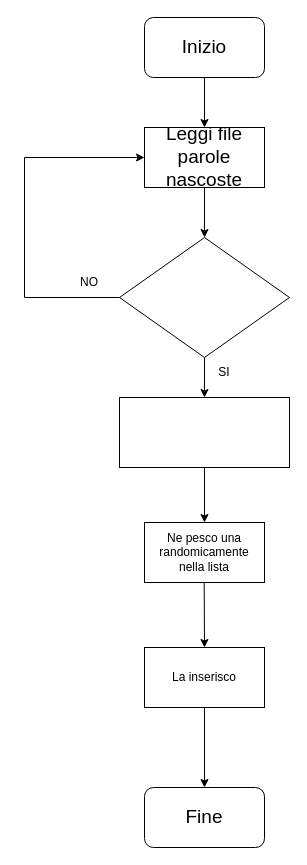
This 307x865 diagram has some shape labels left out. The shapes that lost their labels are listed below. From the top down, each one's box as (x1, y1, x2, y2) in pixels, then its label:
(118, 236, 290, 358): lunghezza parola = spazi vuoti
(118, 396, 290, 468): La inserisco nella lista di parole possibili
